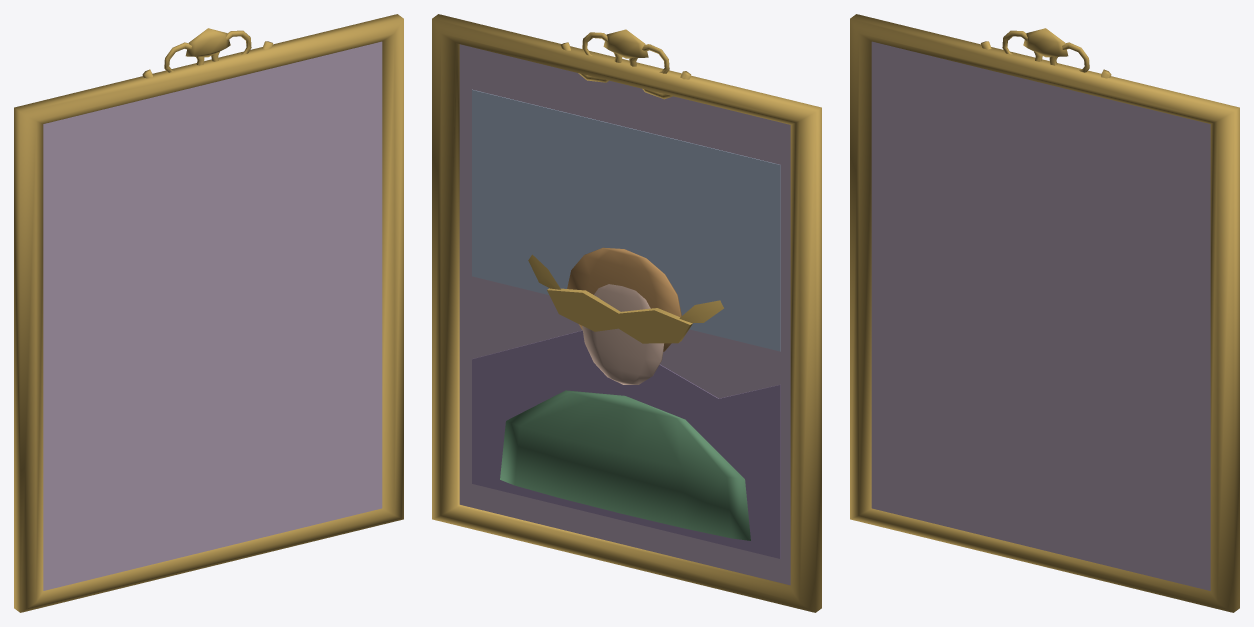
The model's file is portrait_masked.glb.
3 renders of one model, left to right at view 1: azimuth 30°, elevation 25°; view 2: azimuth 150°, elevation 25°; view 3: azimuth 330°, elevation 25°, orthographic.
Parts seen in each view (by area): view 1: portrait_masked; view 2: portrait_masked; view 3: portrait_masked.
Boxes of the visible parts, x1=… form: portrait_masked: x1=14, y1=14, x2=403, y2=612; portrait_masked: x1=432, y1=14, x2=821, y2=612; portrait_masked: x1=850, y1=14, x2=1239, y2=612.
Size of what is drawn, in the model's own units: 1.2 by 1.6 by 0.08.
